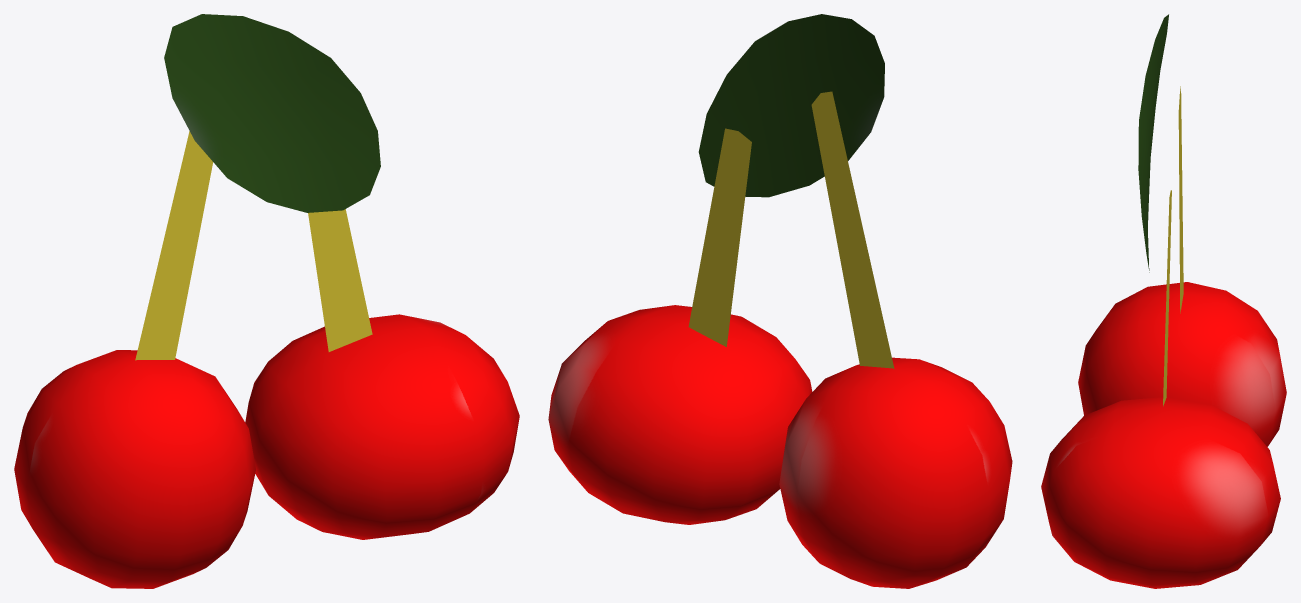
File: Cherries.glb
3 renders of one model, left to right at view 1: azimuth 30°, elevation 25°; view 2: azimuth 150°, elevation 25°; view 3: azimuth 270°, elevation 25°, orthographic. The views are drawn at different scales.
Parts seen in each view (by area): view 1: Cherries; view 2: Cherries; view 3: Cherries.
Part boxes in pixels (left/top/right/bottom): Cherries: left=14, top=14, right=519, bottom=588; Cherries: left=548, top=14, right=1012, bottom=588; Cherries: left=1041, top=14, right=1286, bottom=588.
Bounding box in the file's own units: 0.1464 × 0.1715 × 0.0781.
1 material, 1 textured.
